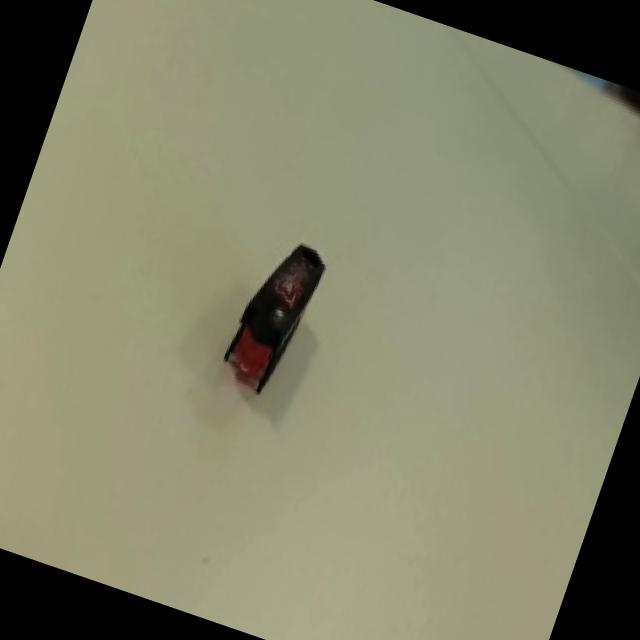2_NanoBug_Negro: (163, 198, 377, 430)
